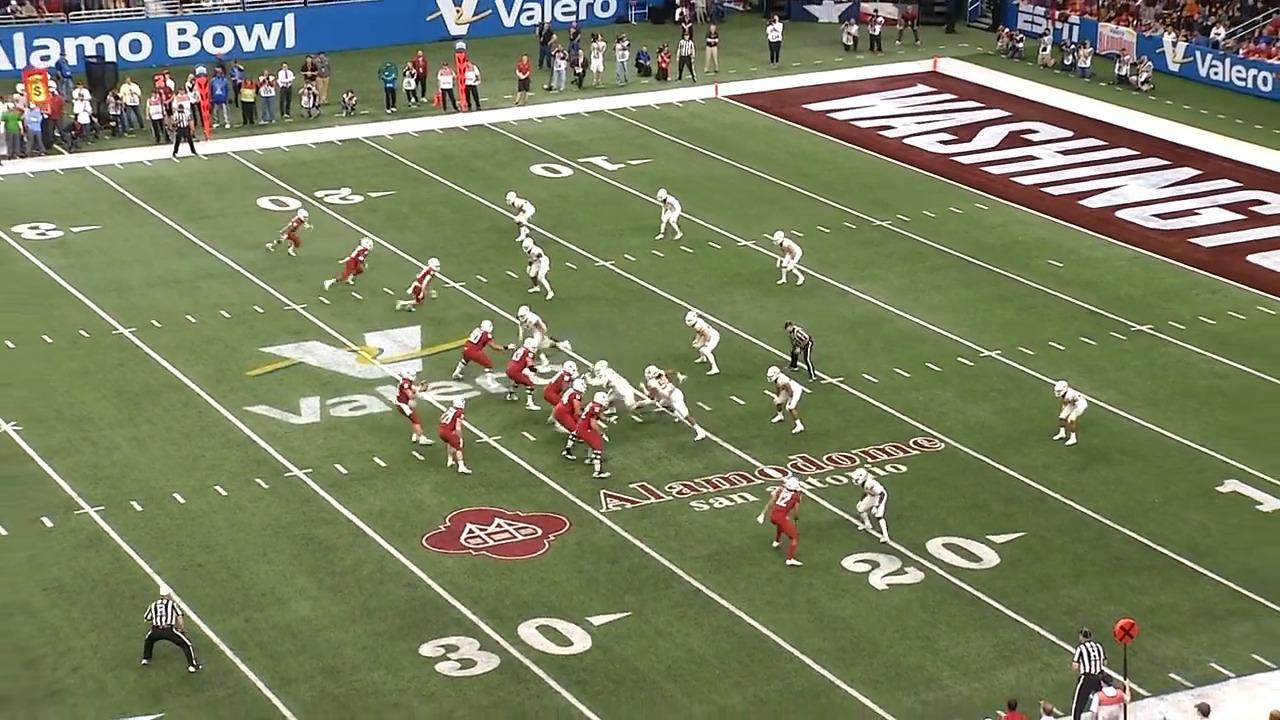player: (641, 365, 707, 442), (763, 480, 807, 570), (322, 238, 378, 301), (586, 358, 643, 418), (847, 467, 889, 544), (453, 321, 501, 387), (396, 256, 447, 317), (764, 365, 805, 436), (582, 392, 615, 480), (683, 306, 723, 378), (507, 338, 547, 409), (399, 368, 435, 446), (518, 303, 569, 358), (438, 399, 472, 479), (265, 207, 313, 262), (1052, 375, 1086, 450), (556, 378, 587, 460), (523, 235, 559, 302), (545, 358, 580, 426), (770, 227, 805, 289), (654, 186, 689, 245), (504, 188, 539, 246)
ref: (1072, 624, 1118, 714), (781, 319, 820, 385), (173, 99, 203, 157)
